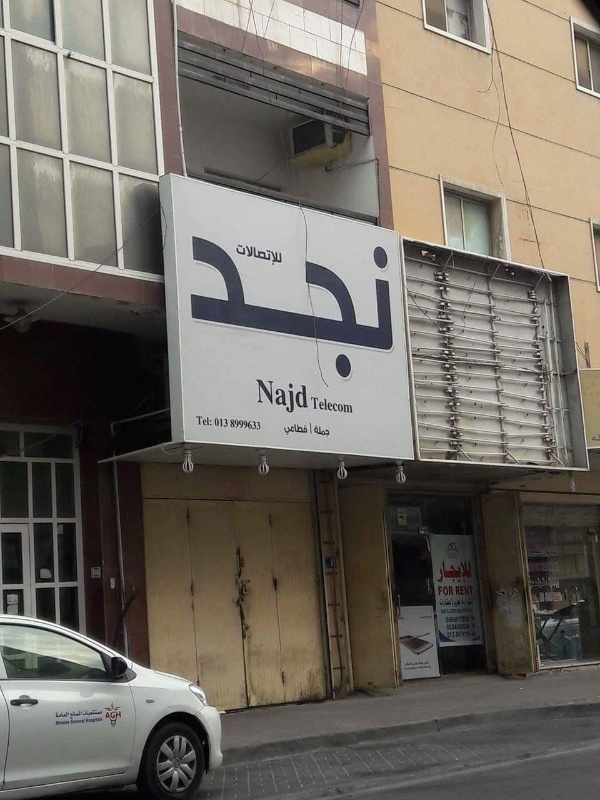text: (193, 234, 208, 382), (209, 234, 224, 382), (225, 234, 240, 382), (241, 234, 256, 382), (257, 234, 272, 382), (273, 234, 288, 382), (289, 234, 304, 382), (305, 234, 320, 382), (321, 234, 336, 382), (337, 234, 352, 382), (353, 234, 368, 382), (369, 234, 384, 382), (385, 234, 397, 382), (257, 378, 272, 415), (273, 378, 288, 415), (289, 378, 304, 415), (241, 244, 256, 269), (257, 244, 272, 269), (449, 560, 464, 584), (190, 234, 192, 382), (337, 396, 353, 414), (321, 396, 336, 414), (437, 560, 448, 584), (449, 597, 464, 614), (273, 244, 283, 269), (465, 560, 474, 584), (241, 418, 256, 432), (417, 659, 433, 672), (289, 423, 304, 436), (403, 659, 416, 672), (311, 396, 320, 414), (196, 414, 208, 427), (465, 597, 474, 614), (449, 622, 464, 632), (305, 378, 309, 415), (440, 597, 448, 614), (449, 615, 464, 624), (83, 707, 96, 717), (231, 418, 240, 432), (437, 586, 448, 597), (465, 585, 475, 597), (449, 631, 464, 639), (321, 424, 330, 437), (214, 417, 224, 428), (455, 585, 464, 597), (314, 424, 320, 437), (113, 711, 122, 719), (71, 711, 80, 719), (86, 717, 96, 724), (257, 418, 262, 432), (97, 707, 103, 717), (449, 586, 454, 597), (71, 719, 80, 725), (55, 712, 64, 718), (209, 414, 213, 427), (238, 244, 240, 269), (465, 622, 470, 632), (97, 717, 104, 724), (106, 711, 112, 719), (465, 631, 471, 639), (55, 721, 64, 726), (225, 417, 229, 428), (285, 423, 288, 436), (305, 423, 308, 436), (81, 719, 87, 725), (65, 712, 71, 718), (465, 615, 469, 624), (65, 721, 71, 726), (445, 615, 448, 624), (446, 622, 448, 632), (81, 711, 83, 719), (446, 631, 448, 639)
